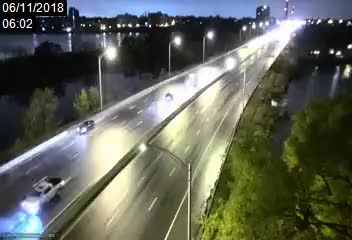personal_car: (22, 174, 65, 209), (77, 120, 95, 135)
